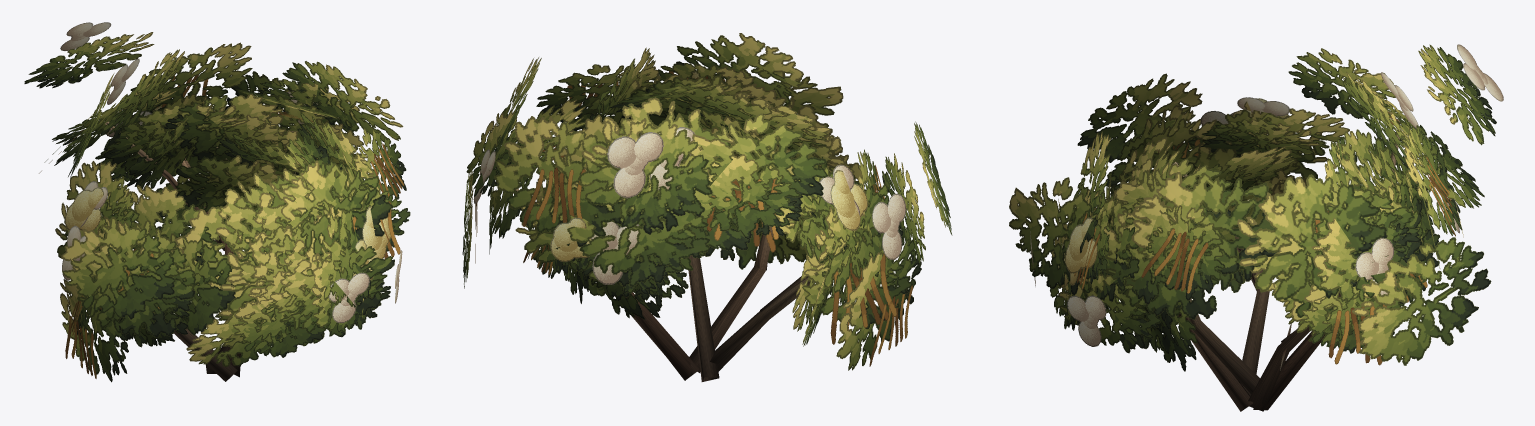
The model's file is a03_thorny_shrub_low.glb.
The picture shows the model from 3 angles, left to right: view 1: azimuth 30°, elevation 25°; view 2: azimuth 150°, elevation 25°; view 3: azimuth 270°, elevation 25°; orthographic projection. The views are drawn at different scales.
Parts seen in each view (by area): view 1: A03_low_Shrub, A03_low_Flowers, A03_low_Pods; view 2: A03_low_Shrub, A03_low_Flowers, A03_low_Pods; view 3: A03_low_Shrub, A03_low_Flowers, A03_low_Pods.
Part boxes in pixels (left/top/right/bottom): A03_low_Shrub: left=24, top=32, right=410, bottom=382; A03_low_Flowers: left=60, top=22, right=402, bottom=323; A03_low_Pods: left=39, top=75, right=404, bottom=378; A03_low_Shrub: left=462, top=33, right=952, bottom=381; A03_low_Flowers: left=473, top=71, right=906, bottom=284; A03_low_Pods: left=475, top=71, right=912, bottom=366; A03_low_Shrub: left=1009, top=44, right=1496, bottom=411; A03_low_Flowers: left=1030, top=44, right=1503, bottom=346; A03_low_Pods: left=1074, top=98, right=1455, bottom=365.
Size of the model in its own units: 1.69 by 1.28 by 1.74.
1 material, 1 textured.
